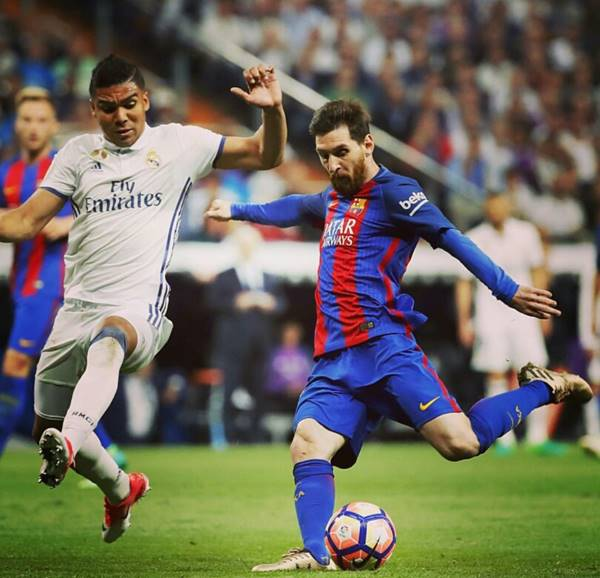barcelona: (232, 104, 590, 575), (1, 86, 74, 513)
realmadrid: (27, 62, 282, 531), (454, 188, 577, 473)
